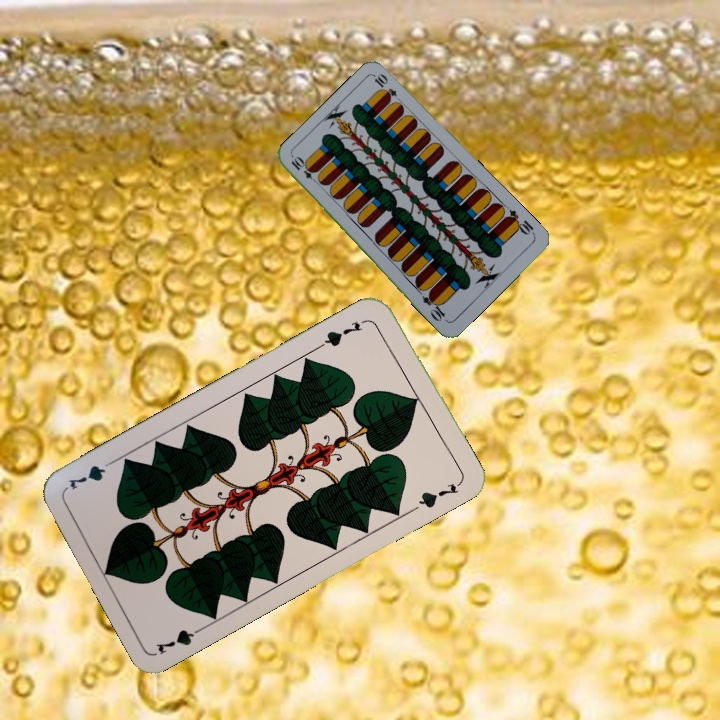E10: (287, 153, 322, 186), (501, 206, 537, 238)
G7: (152, 621, 209, 658), (316, 315, 371, 350)
